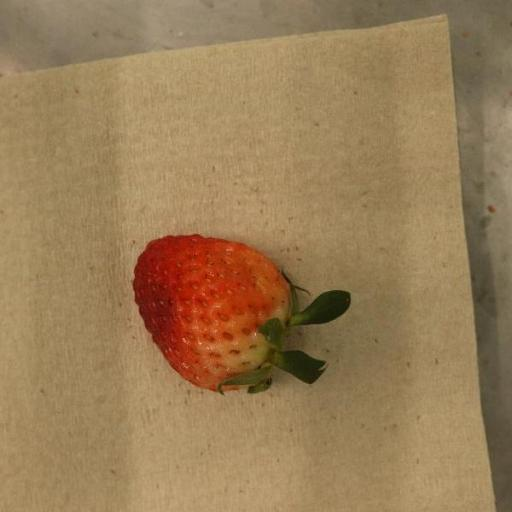Strawberry: (133, 234, 353, 395)
